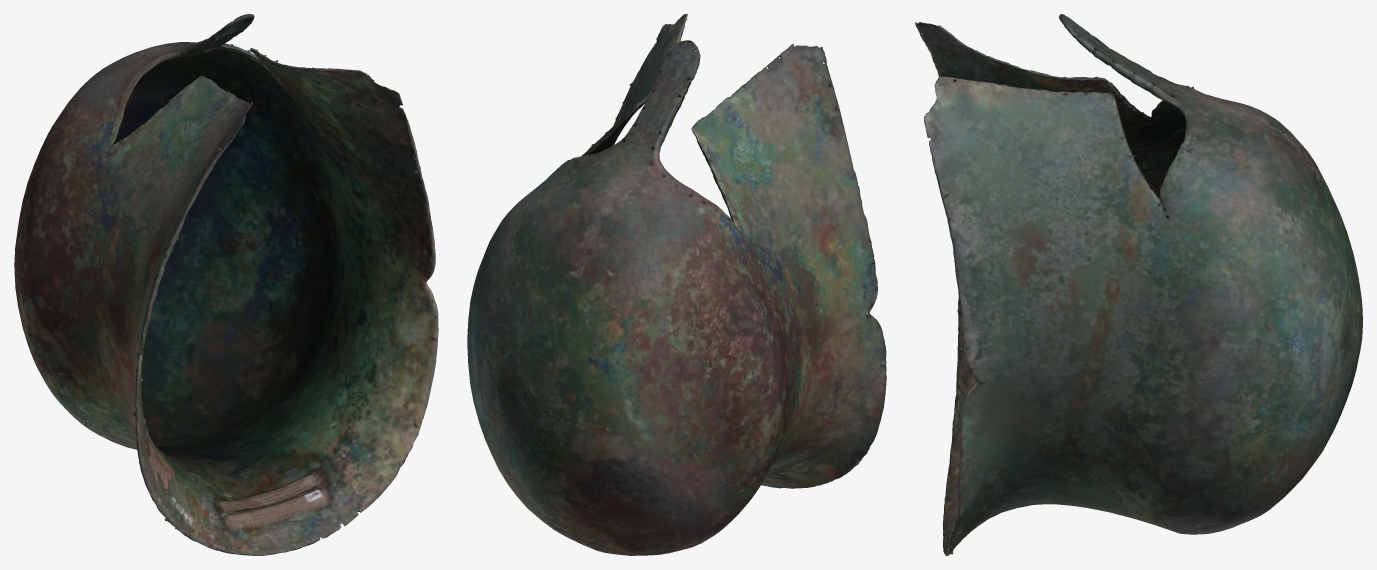
Rendered from nmk-4359.glb.
The picture shows the model from 3 angles, left to right: view 1: azimuth 30°, elevation 25°; view 2: azimuth 150°, elevation 25°; view 3: azimuth 270°, elevation 25°; orthographic projection. The views are drawn at different scales.
Parts seen in each view (by area): view 1: ssu011349-000-30000; view 2: ssu011349-000-30000; view 3: ssu011349-000-30000.
Part boxes in pixels (x1=…): ssu011349-000-30000: x1=14, y1=14, x2=438, y2=555; ssu011349-000-30000: x1=467, y1=14, x2=886, y2=555; ssu011349-000-30000: x1=915, y1=14, x2=1362, y2=555.
Size of the model in its own units: 0.9149 by 1.41 by 1.08.
1 material, 1 textured.
